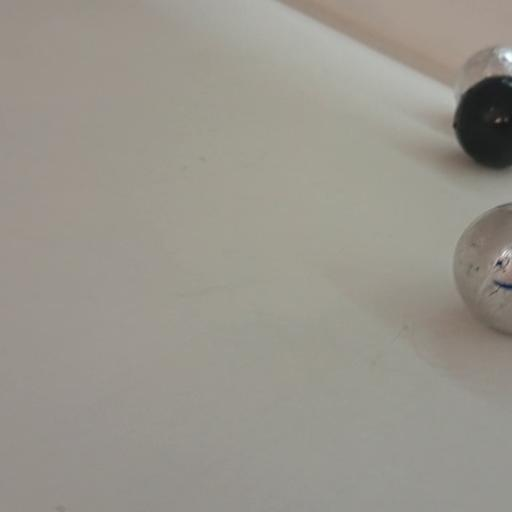alive: (452, 200, 510, 336), (452, 45, 510, 106)
dead: (453, 75, 512, 167)
